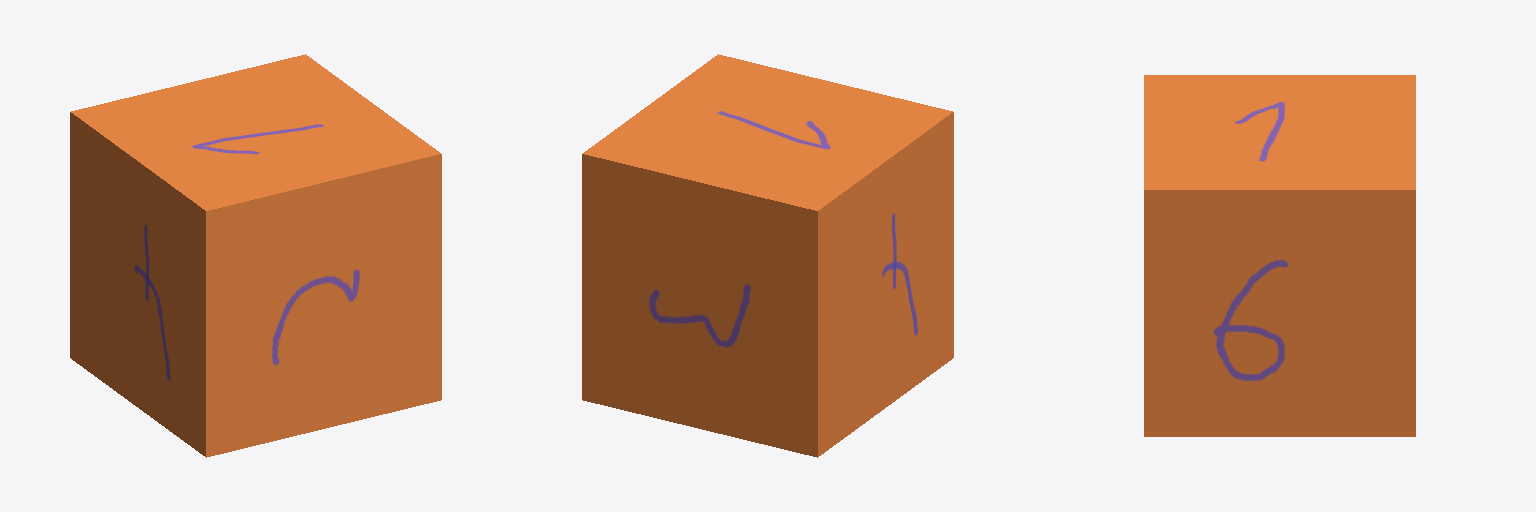
The picture shows the model from 3 angles: view 1: azimuth 30°, elevation 25°; view 2: azimuth 150°, elevation 25°; view 3: azimuth 270°, elevation 25°; orthographic projection.
Visible parts, largest first — view 1: Cube_Cube.001; view 2: Cube_Cube.001; view 3: Cube_Cube.001.
Boxes of the visible parts, box(x1,y1,x2,y2) form: Cube_Cube.001: box(70, 54, 441, 457); Cube_Cube.001: box(582, 54, 953, 457); Cube_Cube.001: box(1144, 75, 1415, 436).
Bounding box in the file's own units: 2 × 2 × 2.
Materials: 1 (1 with a texture image).